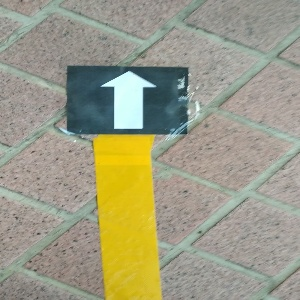straight: (65, 64, 188, 134)
